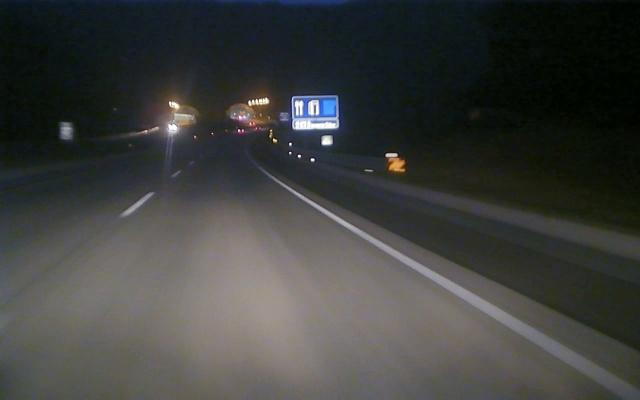lane: (277, 180, 640, 400), (119, 170, 180, 216)
